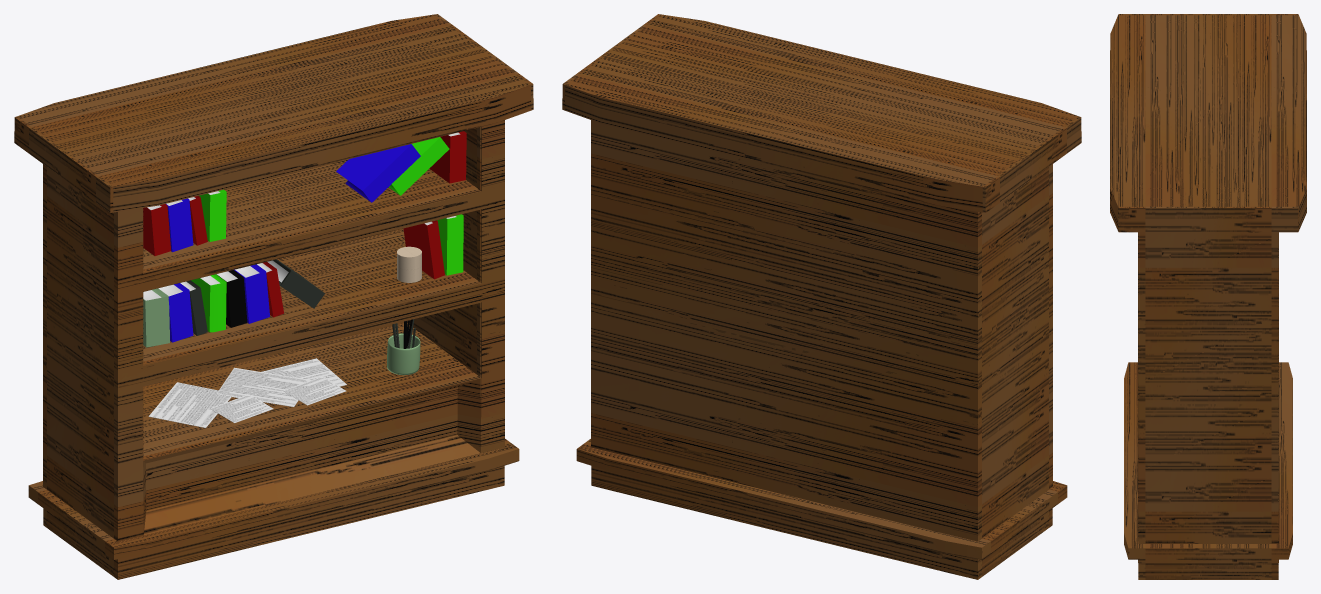
The model's file is bookcase_vari_1.FBX.
3 renders of one model, left to right at view 1: azimuth 30°, elevation 25°; view 2: azimuth 150°, elevation 25°; view 3: azimuth 270°, elevation 25°, orthographic. The views are drawn at different scales.
Visible parts, largest first — view 1: Box002, Box003, Plane005, Plane003, Torus001, Plane002, Plane004, Plane006, Cylinder001; view 2: Box002; view 3: Box002.
Boxes of the visible parts, x1,y1,x2,y2 form: Box002: (14,14,533,579); Box003: (143,131,466,347); Plane005: (148,382,231,427); Plane003: (216,367,310,406); Torus001: (387,333,420,375); Plane002: (261,358,346,386); Plane004: (283,376,346,405); Plane006: (210,394,273,423); Cylinder001: (397,246,421,282); Box002: (562,14,1081,579); Box002: (1110,14,1306,579).
Size of the model in its own units: 65.82 by 60.17 by 28.2.
